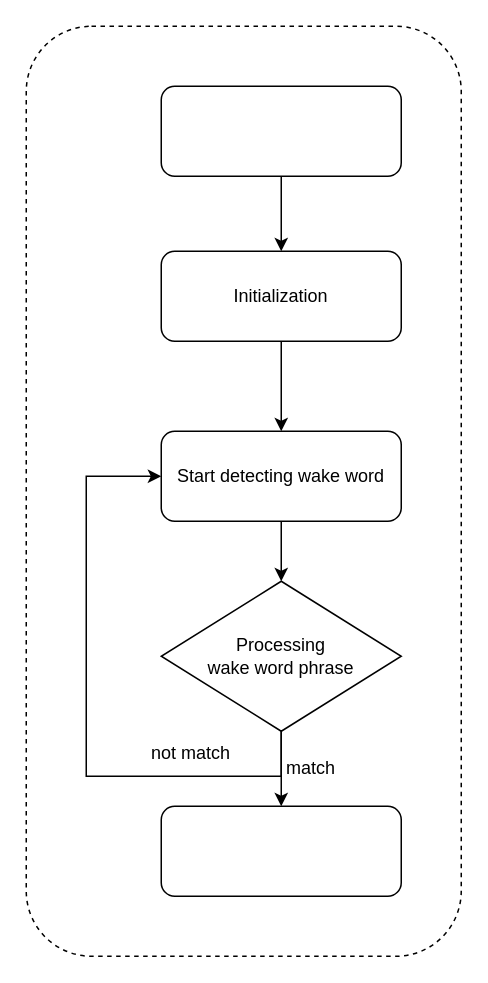
Some shapes in this 488 by 983 pixel diagram are drawn without their labels. The centre of each missing label's shape, as x and y in pixels:
Send control command: the point at 280,850
Start: the point at 280,130
